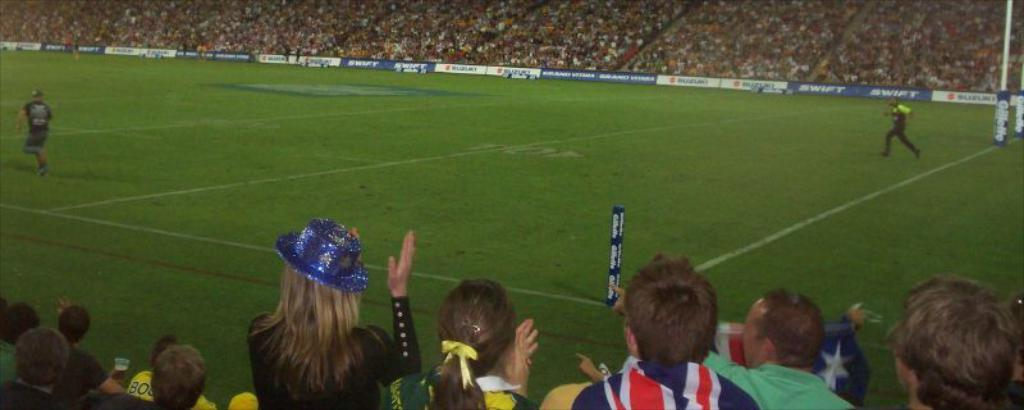Sem Máscara: (737, 300, 759, 368)
